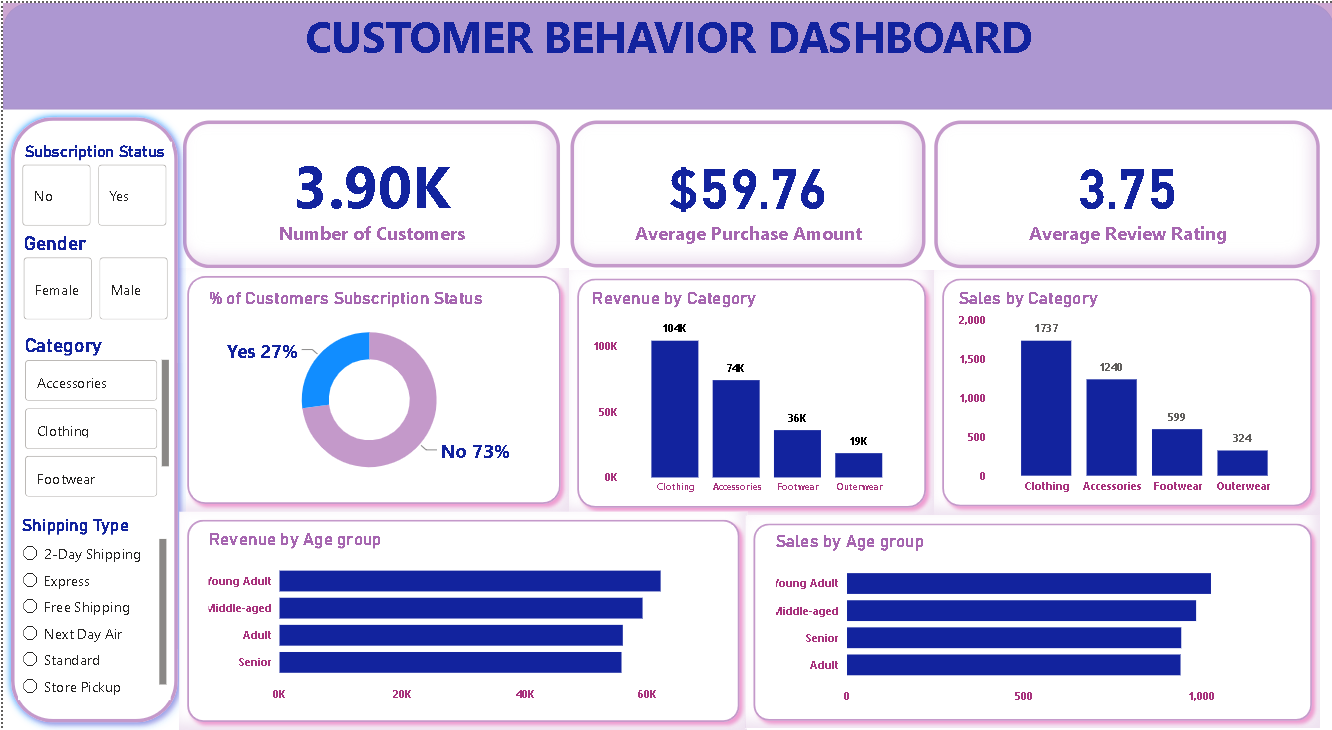

This screenshot's page, from the dashboard's own definition file:
{"tool":"powerbi","page":{"name":"Page 1","canvas":[1500,820],"ordinal":0},"visuals":[{"type":"card","fields":{"Values":["public customer.Number of Customers"]},"box":[202.8,131.9,425,166.7],"z":0},{"type":"card","fields":{"Values":["public customer.Average Purchase Amount"]},"box":[638.9,131.9,400,165.3],"z":1000},{"type":"card","fields":{"Values":["public customer.Average Review Rating"]},"box":[1048.6,131.9,434.7,166.7],"z":2000},{"type":"shape","box":[0,0,1500,119.7],"z":3000},{"type":"textbox","box":[0,0,1500,119.7],"z":4000},{"type":"shape","box":[198.6,298.6,438.9,275],"z":5000},{"type":"donutChart","title":"% of Customers Subscription Status","fields":{"Category":["public customer.subscription_status"],"Y":["CountNonNull(public customer.customer_id)"]},"box":[226.4,320.8,372.2,230.6],"z":6000},{"type":"shape","box":[637.5,301.4,411.1,276.4],"z":7000},{"type":"shape","box":[1048.6,301.4,434.7,275],"z":8000},{"type":"clusteredColumnChart","title":"Revenue by Category","fields":{"Category":["public customer.category"],"Y":["Sum(public customer.purchase_amount)"]},"box":[659.7,320.8,366.7,241.7],"z":9000},{"type":"clusteredColumnChart","title":"Sales by Category","fields":{"Category":["public customer.category"],"Y":["CountNonNull(public customer.customer_id)"]},"box":[1072.2,320.8,390.3,241.7],"z":10000},{"type":"shape","box":[0,120,206,700],"z":11000},{"type":"advancedSlicerVisual","fields":{"Values":["public customer.subscription_status"]},"box":[16.7,156.9,173.6,100],"z":12000},{"type":"advancedSlicerVisual","fields":{"Values":["public customer.gender"]},"box":[18.1,258.3,173.6,104.2],"z":13000},{"type":"advancedSlicerVisual","fields":{"Values":["public customer.category"]},"box":[19.4,373.6,172.2,188.9],"z":14000},{"type":"listSlicer","title":"Shipping Type","fields":{"Values":["public customer.shipping_type"]},"box":[16.7,577.8,172.2,208.3],"z":15000},{"type":"clusteredBarChart","fields":{"Category":["public customer.age_group"],"Y":["Sum(public customer.purchase_amount)"]},"box":[226.4,608.3,383.3,177.8],"z":16000},{"type":"shape","box":[198.6,573.6,640.3,245.8],"z":17000},{"type":"clusteredBarChart","title":"Revenue by Age group","fields":{"Category":["public customer.age_group"],"Y":["Sum(public customer.purchase_amount)"]},"box":[226.4,593.1,584.7,204.2],"z":18000},{"type":"shape","box":[836.1,577.8,647.2,240.3],"z":19000},{"type":"clusteredBarChart","title":"Sales by Age group","fields":{"Category":["public customer.age_group"],"Y":["CountNonNull(public customer.customer_id)"]},"box":[866.7,595.8,584.7,204.2],"z":20000}]}

Visuals, with their boxes in screenshot pixels (x1, y1, x2, y2), scaled from the page's 1500x820 canvas onto the 1332x730 screenshot:
card - public customer.Number of Customers: box=[180, 117, 557, 266]
card - public customer.Average Purchase Amount: box=[567, 117, 923, 265]
card - public customer.Average Review Rating: box=[931, 117, 1317, 266]
shape: box=[0, 0, 1331, 107]
textbox: box=[0, 0, 1331, 107]
shape: box=[176, 266, 566, 511]
"% of Customers Subscription Status" donutChart: box=[201, 286, 532, 491]
shape: box=[566, 268, 931, 514]
shape: box=[931, 268, 1317, 513]
"Revenue by Category" clusteredColumnChart: box=[586, 286, 911, 501]
"Sales by Category" clusteredColumnChart: box=[952, 286, 1299, 501]
shape: box=[0, 107, 183, 729]
advancedSlicerVisual - public customer.subscription_status: box=[15, 140, 169, 229]
advancedSlicerVisual - public customer.gender: box=[16, 230, 170, 323]
advancedSlicerVisual - public customer.category: box=[17, 333, 170, 501]
"Shipping Type" listSlicer: box=[15, 514, 168, 700]
clusteredBarChart - public customer.age_group x Sum(public customer.purchase_amount): box=[201, 542, 541, 700]
shape: box=[176, 511, 745, 729]
"Revenue by Age group" clusteredBarChart: box=[201, 528, 720, 710]
shape: box=[742, 514, 1317, 728]
"Sales by Age group" clusteredBarChart: box=[770, 530, 1289, 712]
